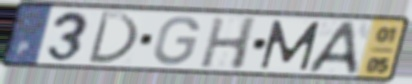3: (44, 8, 95, 64)
A: (305, 20, 361, 75)
D: (84, 10, 140, 66)
G: (151, 14, 202, 67)
H: (197, 16, 260, 72)
M: (258, 18, 323, 72)
